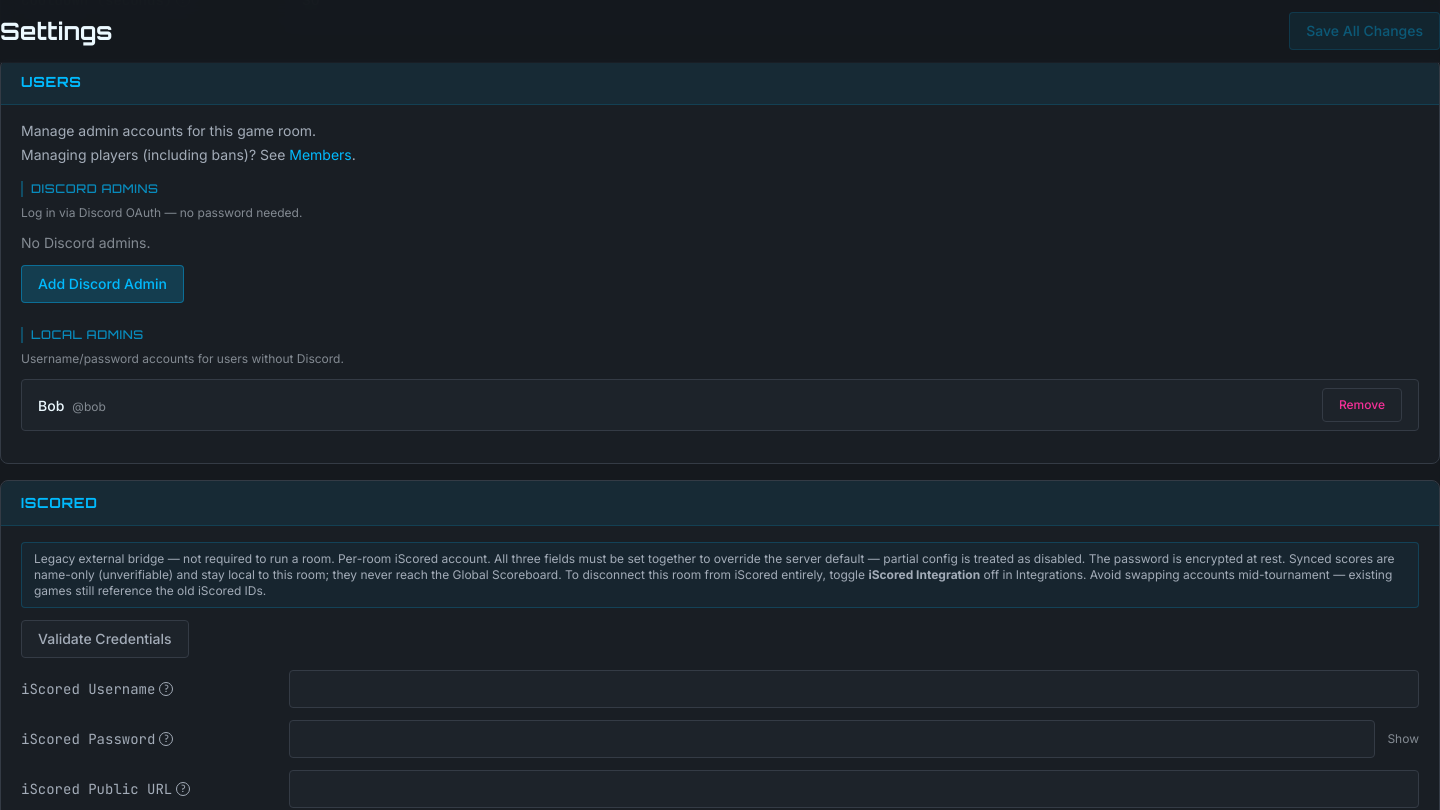
Test: Settings page — ROOM_LISTED, JOIN_POLICY, AUTO_APPROVE_GUILD_MEMBERS, iScored posture › Users card — Local Admins visibility (Task A) › shows the Local Admins section with a working Remove affordance when legacy accounts exist
(page scrolled)
Check: the heading "Settings" is shown, box [0,15,112,47]
Check: the text "Local Admins" is shown, box [21,327,1419,343]
Click the button "Remove" at (1362,405), box [1322,388,1402,422]
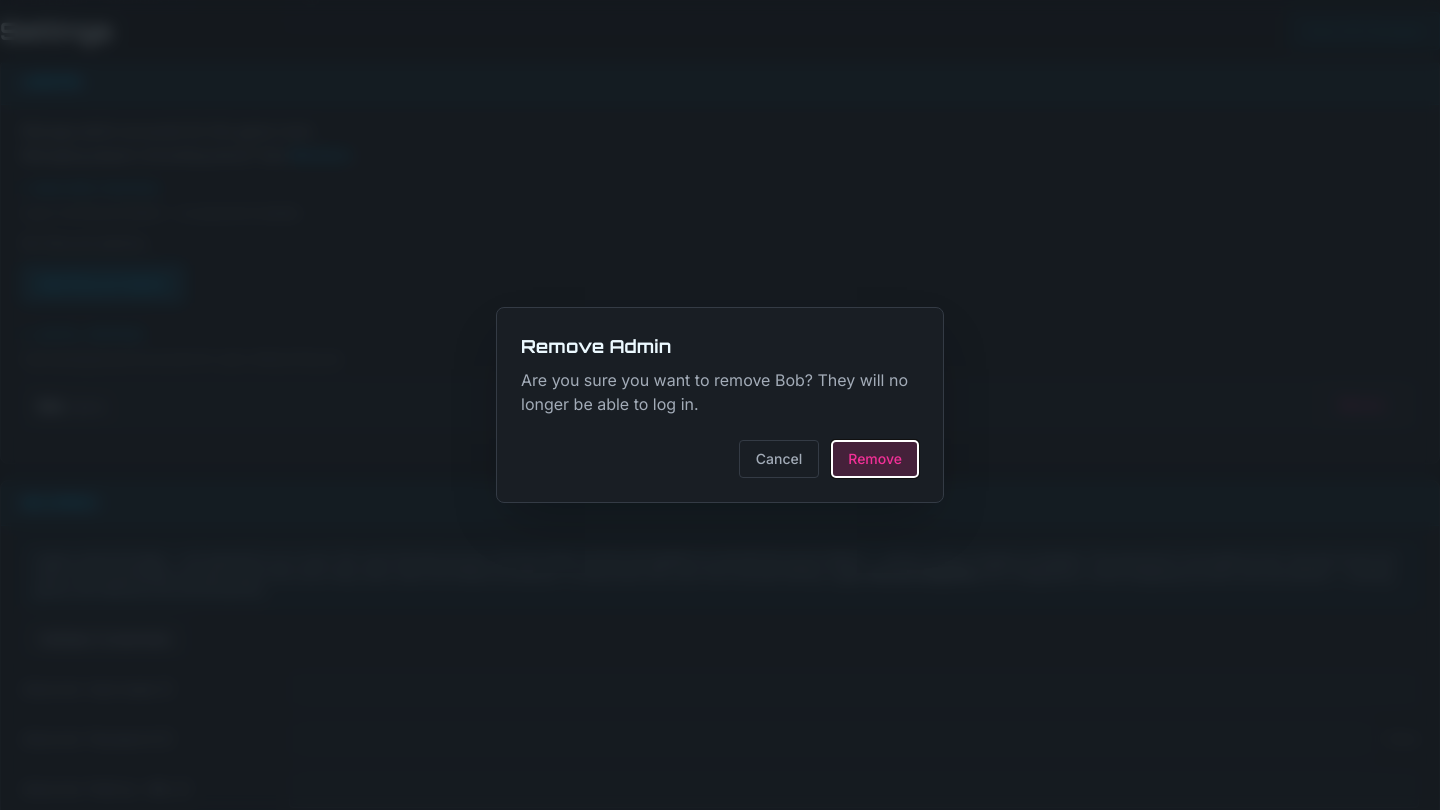
Check: the text "Are you sure you want to remove Bob" is shown, box [521,370,908,414]
